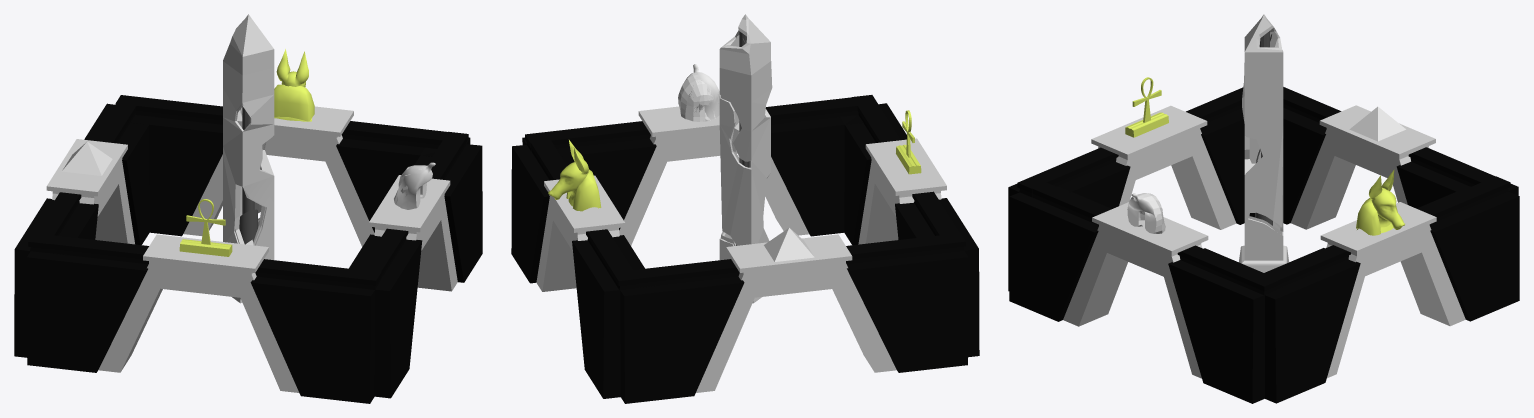
Rendered from Tombs obelisk.FBX.
3 views of the same model, side by side, from view 1: azimuth 30°, elevation 25°; view 2: azimuth 150°, elevation 25°; view 3: azimuth 270°, elevation 25° (orthographic). The views are drawn at different scales.
Parts seen in each view (by area): view 1: TombEntrances, Obelisk, AnubisHead, SphynxHelmet, AnkhLandmark, PyramidLandmark, Antenna; view 2: TombEntrances, Obelisk, AnubisHead, SphynxHelmet, PyramidLandmark, AnkhLandmark; view 3: TombEntrances, Obelisk, AnubisHead, SphynxHelmet, PyramidLandmark, AnkhLandmark.
Part boxes in pixels (bbox=[...]): TombEntrances: bbox=[14, 95, 482, 403]; Obelisk: bbox=[223, 14, 274, 303]; AnubisHead: bbox=[274, 49, 314, 121]; SphynxHelmet: bbox=[394, 162, 435, 209]; AnkhLandmark: bbox=[179, 199, 232, 256]; PyramidLandmark: bbox=[62, 141, 112, 175]; Antenna: bbox=[239, 106, 257, 244]; TombEntrances: bbox=[511, 95, 979, 403]; Obelisk: bbox=[719, 14, 772, 303]; AnubisHead: bbox=[548, 140, 601, 211]; SphynxHelmet: bbox=[678, 64, 719, 121]; PyramidLandmark: bbox=[764, 227, 814, 261]; AnkhLandmark: bbox=[896, 110, 921, 174]; TombEntrances: bbox=[1008, 87, 1519, 403]; Obelisk: bbox=[1239, 14, 1288, 272]; AnubisHead: bbox=[1356, 169, 1404, 235]; SphynxHelmet: bbox=[1127, 193, 1165, 233]; PyramidLandmark: bbox=[1349, 106, 1405, 141]; AnkhLandmark: bbox=[1125, 77, 1168, 137].
Bounding box in the file's own units: 1739 × 1059 × 1739.
